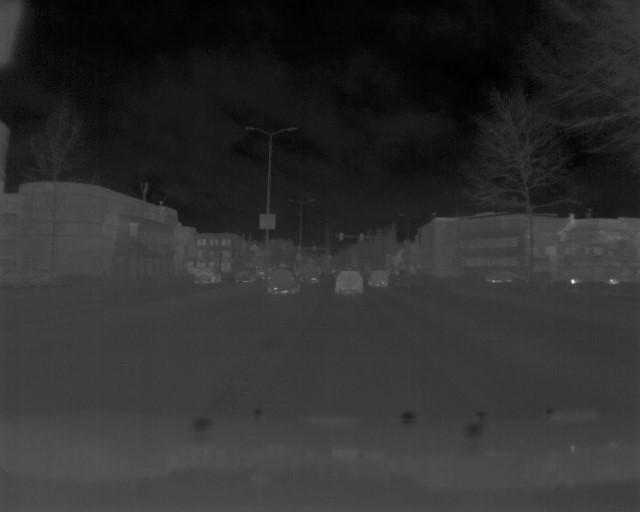car: (268, 268, 303, 299), (335, 269, 365, 300), (193, 267, 226, 288)
